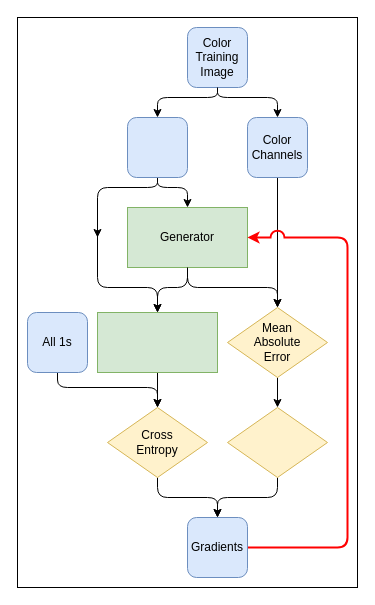
This 375x605 diagram has some shape labels left out. The centre of each missing label's shape, as x and y in pixels:
"Discriminator" belongs at (157,342).
"Gray Channel" belongs at (157,147).
"Scaling" belongs at (277,442).
